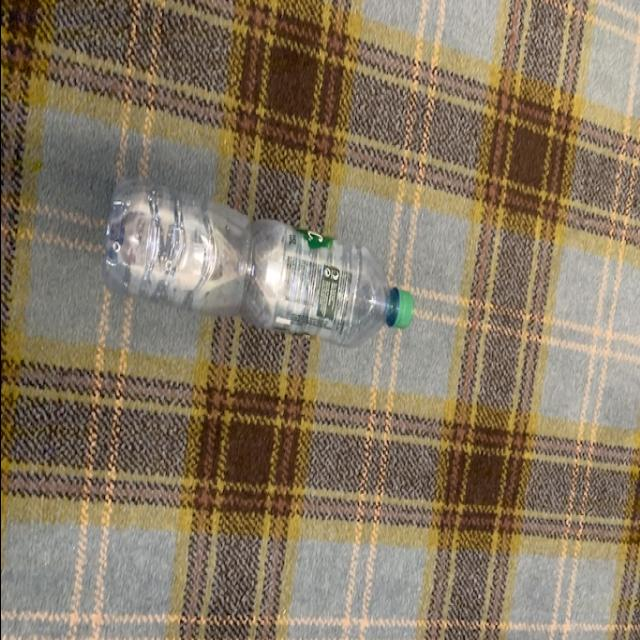PET: (98, 178, 414, 348)
